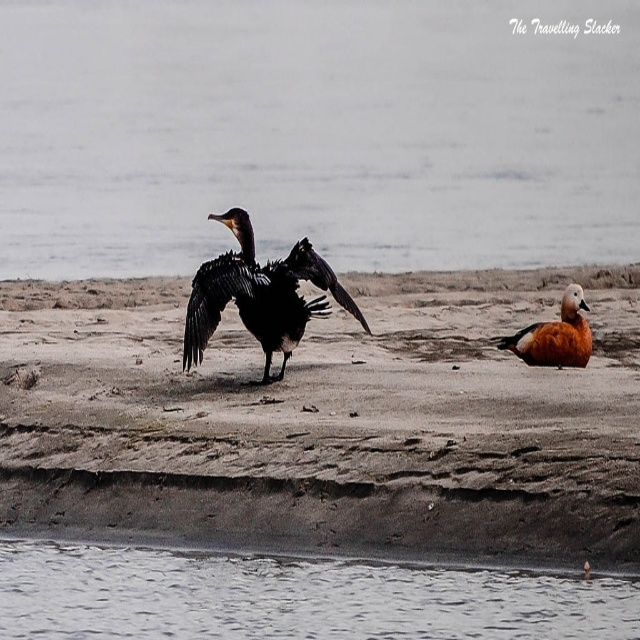Duck: (511, 283, 599, 366)
